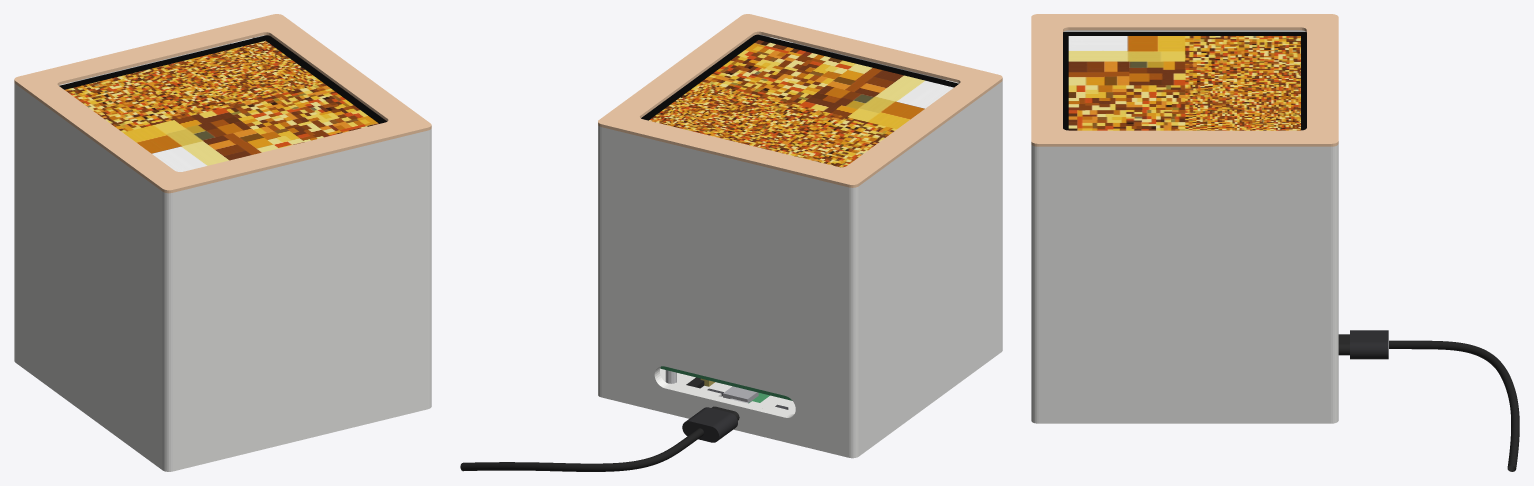
Rendered from blockvase.glb.
3 renders of one model, left to right at view 1: azimuth 30°, elevation 25°; view 2: azimuth 150°, elevation 25°; view 3: azimuth 270°, elevation 25°, orthographic. The views are drawn at different scales.
Parts seen in each view (by area): view 1: body, lcd, bezel, screen; view 2: body, lcd, bezel, usbc_cable, screen, usbc_plug_shield; view 3: body, lcd, bezel, screen, usbc_cable, usbc_plug_shield.
Boxes of the visible parts, x1=… form: body: x1=14, y1=35, x2=431, y2=471; lcd: x1=65, y1=40, x2=378, y2=171; bezel: x1=14, y1=14, x2=431, y2=193; screen: x1=59, y1=35, x2=386, y2=123; body: x1=598, y1=34, x2=1002, y2=458; lcd: x1=649, y1=40, x2=953, y2=167; bezel: x1=598, y1=14, x2=1002, y2=187; usbc_cable: x1=460, y1=428, x2=703, y2=471; screen: x1=641, y1=34, x2=958, y2=120; usbc_plug_shield: x1=682, y1=407, x2=737, y2=442; body: x1=1031, y1=30, x2=1338, y2=423; lcd: x1=1068, y1=36, x2=1300, y2=130; bezel: x1=1031, y1=14, x2=1338, y2=146; screen: x1=1063, y1=32, x2=1306, y2=130; usbc_cable: x1=1389, y1=340, x2=1519, y2=471; usbc_plug_shield: x1=1350, y1=330, x2=1388, y2=359.
Size of the model in its own units: 2.84 by 2.61 by 3.8.
24 materials, 1 textured.
